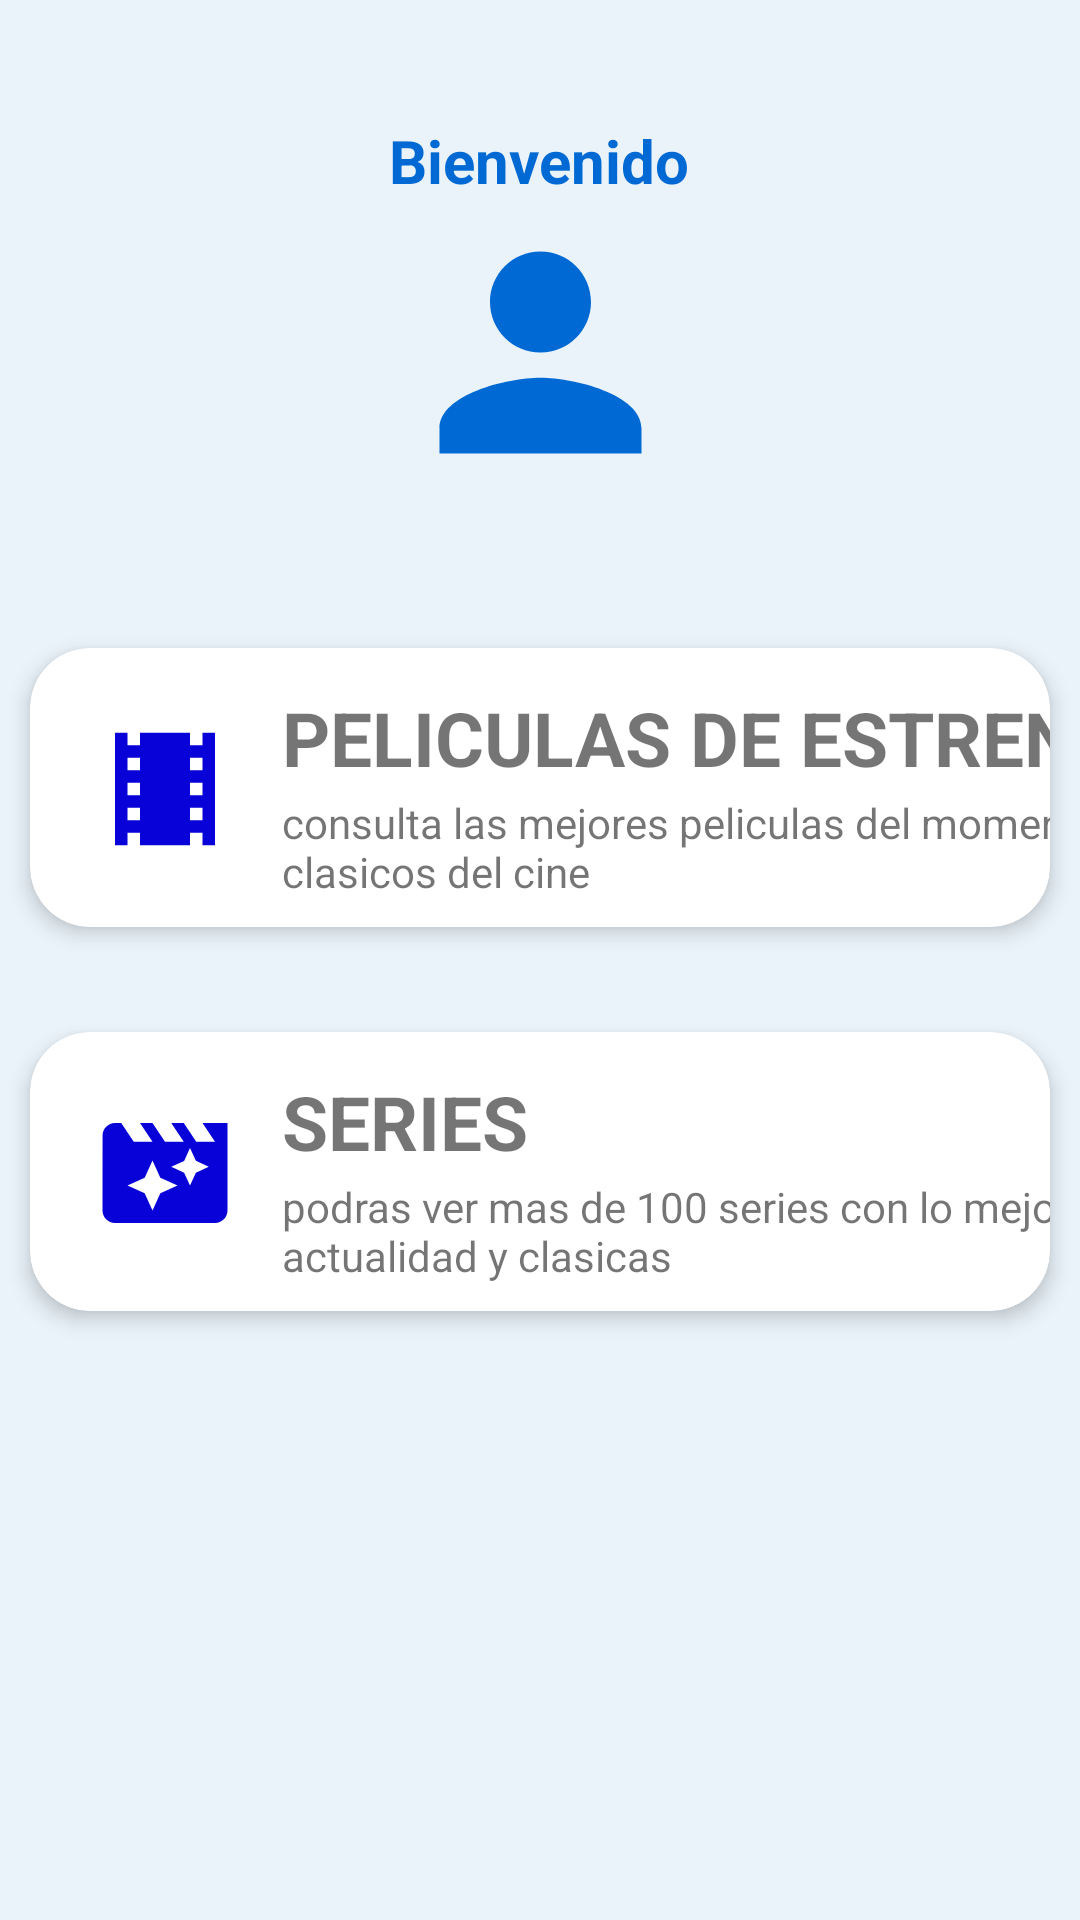

Icons on this 1080×1920 Android screen, each with its box as {"x1": x1, "y1": y1, "x2": x2, "y2": y2}:
movis: {"x1": 115, "y1": 732, "x2": 215, "y2": 846}
person azul login: {"x1": 439, "y1": 251, "x2": 642, "y2": 454}
